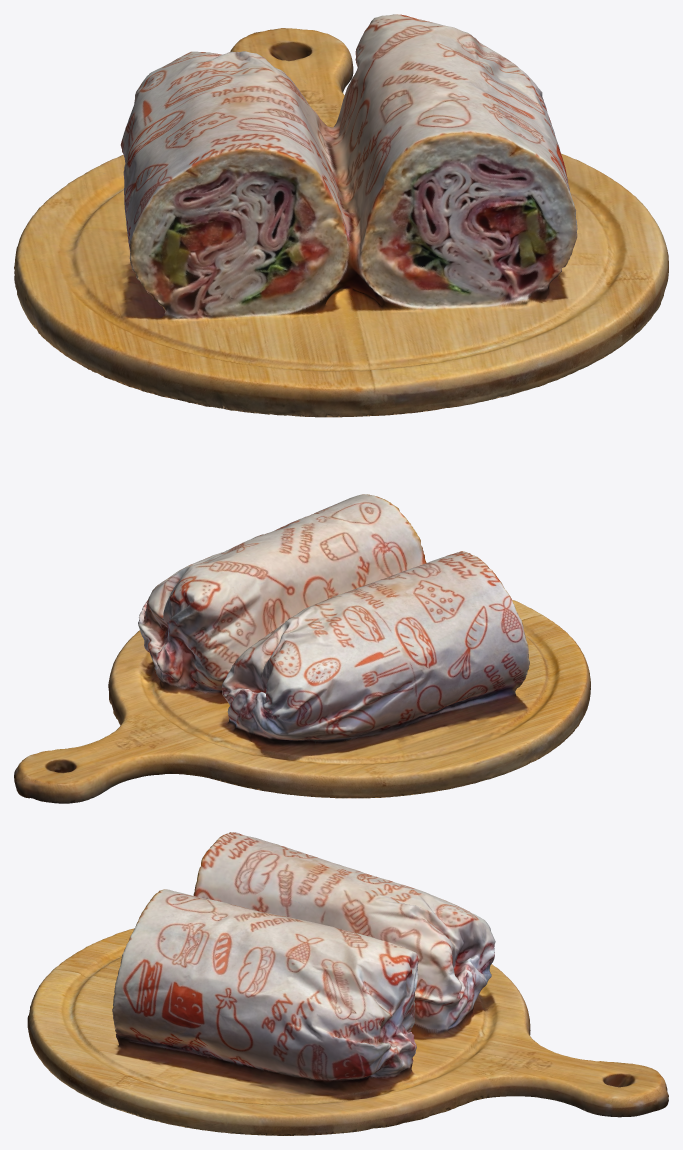
File: Sandwich.jambon.02.glb
3 views of the same model, one above another, from view 1: azimuth 30°, elevation 25°; view 2: azimuth 150°, elevation 25°; view 3: azimuth 270°, elevation 25° (orthographic). The views are drawn at different scales.
Parts seen in each view (by area): view 1: 3DModel; view 2: 3DModel; view 3: 3DModel.
Boxes of the visible parts, x1,y1,x2,y2 form: 3DModel: (14, 14, 668, 417); 3DModel: (14, 494, 590, 803); 3DModel: (27, 832, 668, 1135).
Bounding box in the file's own units: 0.3465 × 0.1179 × 0.4533.
Materials: 1 (1 with a texture image).
